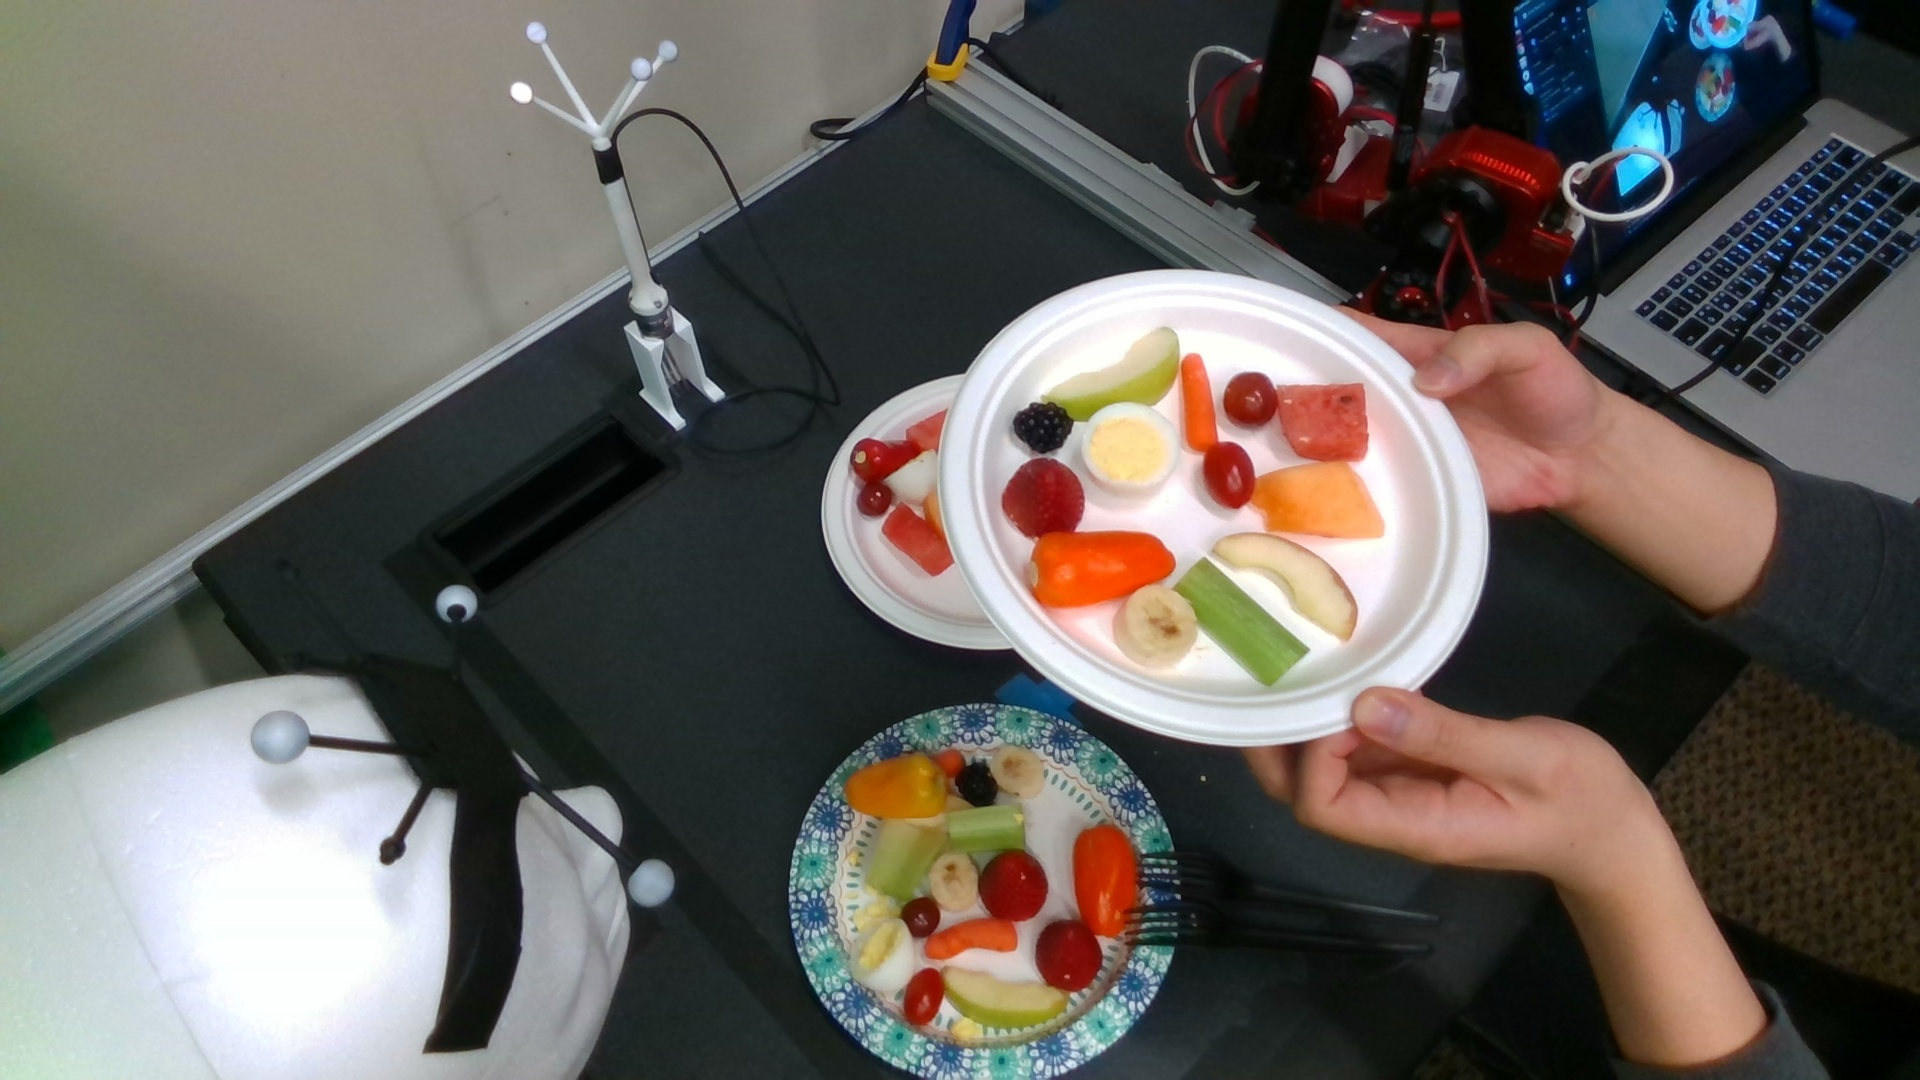apple: (1215, 533, 1358, 640), (1043, 327, 1180, 422), (942, 965, 1069, 1025)
banana: (1113, 587, 1197, 665), (930, 853, 977, 913), (994, 744, 1044, 793)
bell_pepper: (1033, 531, 1176, 607), (1075, 827, 1135, 935), (845, 757, 945, 816), (852, 439, 920, 480)
blackberry: (1011, 404, 1075, 454), (957, 765, 996, 803)
cantalope: (1257, 462, 1383, 539)
carrot: (1182, 353, 1218, 452), (927, 919, 1015, 959)
celery: (1178, 559, 1309, 687), (870, 822, 943, 898), (945, 804, 1026, 853)
cherry_tomato: (1207, 442, 1255, 509), (907, 969, 944, 1025)
egg: (1083, 404, 1180, 489), (852, 918, 913, 989)
grape_purple: (1224, 372, 1276, 430), (901, 898, 939, 936), (858, 481, 891, 516)
melon: (1276, 382, 1367, 460), (884, 504, 951, 574)
strawberry: (1001, 459, 1084, 538), (981, 853, 1047, 920), (1038, 922, 1100, 990)
